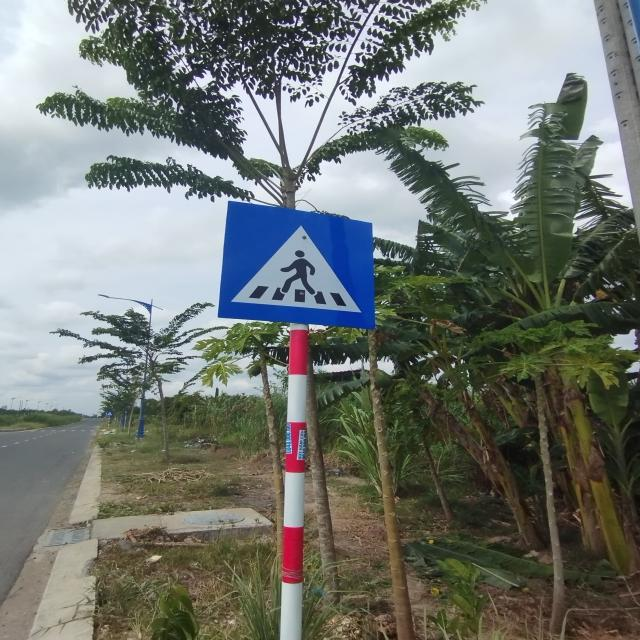Giao_Nhau_Duong_Uu_Tien: (219, 202, 375, 330)
